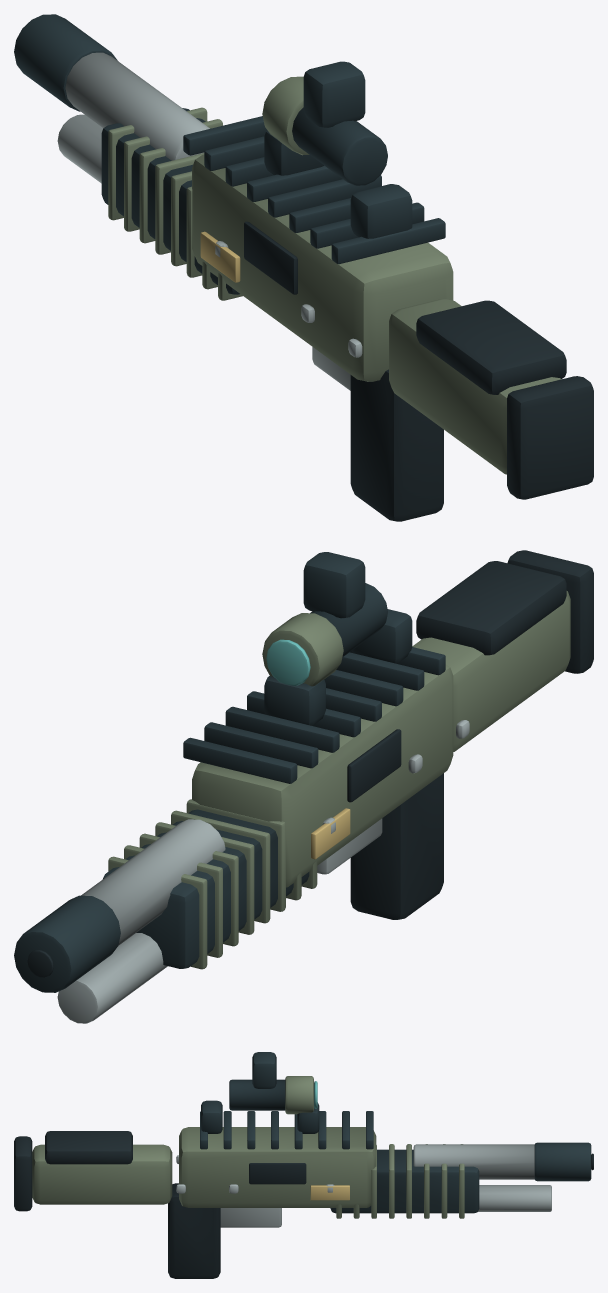
File: kf-weapon-shotgun.glb
The picture shows the model from 3 angles, top to bottom: view 1: azimuth 30°, elevation 25°; view 2: azimuth 150°, elevation 25°; view 3: azimuth 270°, elevation 25°; orthographic projection. The views are drawn at different scales.
Visible parts, largest first — view 1: Weapon Painted receiver, Weapon Gunmetal, Weapon Grip rubber, Weapon Machined steel, Weapon Markings; view 2: Weapon Painted receiver, Weapon Gunmetal, Weapon Grip rubber, Weapon Machined steel, Weapon Lens, Weapon Markings; view 3: Weapon Painted receiver, Weapon Gunmetal, Weapon Grip rubber, Weapon Machined steel, Weapon Markings.
Part boxes in pixels (x1,y1,x2,y2): Weapon Painted receiver: [108, 76, 561, 474]; Weapon Gunmetal: [14, 14, 445, 294]; Weapon Grip rubber: [244, 221, 593, 521]; Weapon Machined steel: [57, 52, 362, 390]; Weapon Markings: [200, 231, 240, 282]; Weapon Painted receiver: [108, 591, 570, 969]; Weapon Gunmetal: [14, 552, 445, 992]; Weapon Grip rubber: [27, 550, 593, 977]; Weapon Machined steel: [57, 720, 469, 1023]; Weapon Lens: [266, 639, 310, 685]; Weapon Markings: [311, 808, 350, 859]; Weapon Painted receiver: [32, 1076, 464, 1218]; Weapon Gunmetal: [200, 1052, 591, 1213]; Weapon Grip rubber: [14, 1131, 593, 1278]; Weapon Machined steel: [176, 1144, 551, 1227]; Weapon Markings: [310, 1185, 349, 1200].
Size of the model in its own units: 0.171 by 0.5465 by 1.32.
